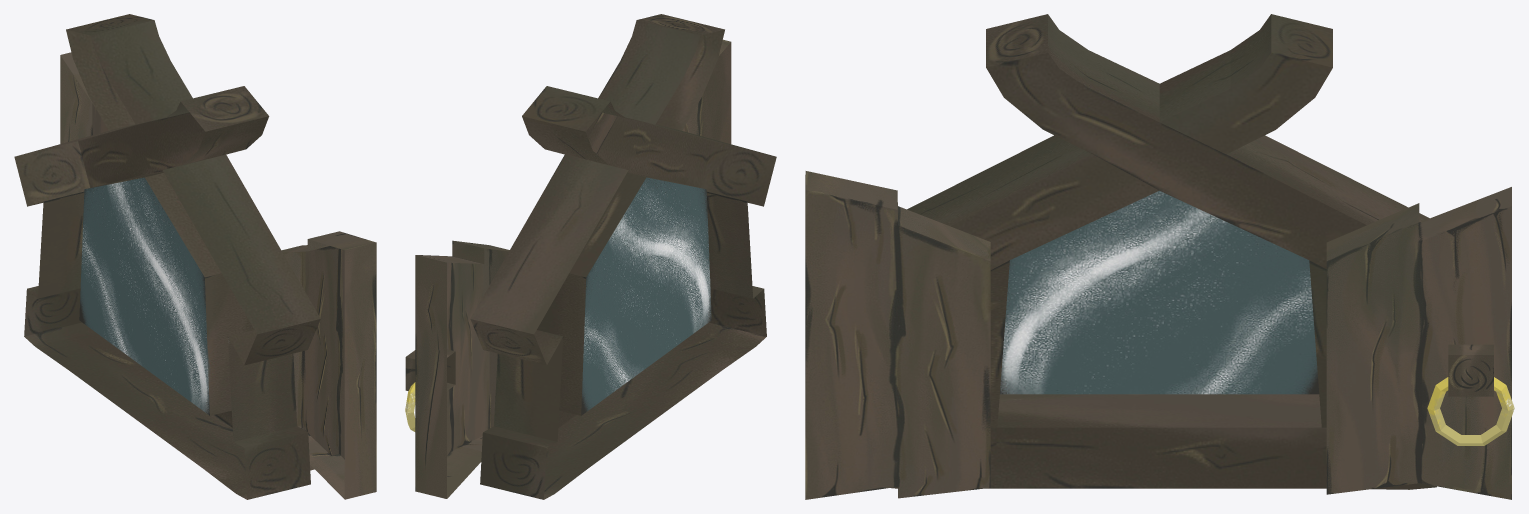
Rendered from polysurface580_txt_fenetre_new_0_lev1_lev2.glb.
3 renders of one model, left to right at view 1: azimuth 30°, elevation 25°; view 2: azimuth 150°, elevation 25°; view 3: azimuth 270°, elevation 25°, orthographic. The views are drawn at different scales.
Parts seen in each view (by area): view 1: polysurface580_txt_fenetre_new_0_lev1_lev2; view 2: polysurface580_txt_fenetre_new_0_lev1_lev2; view 3: polysurface580_txt_fenetre_new_0_lev1_lev2.
Part boxes in pixels (left/top/right/bottom): polysurface580_txt_fenetre_new_0_lev1_lev2: left=14, top=14, right=376, bottom=499; polysurface580_txt_fenetre_new_0_lev1_lev2: left=405, top=14, right=776, bottom=499; polysurface580_txt_fenetre_new_0_lev1_lev2: left=805, top=14, right=1514, bottom=499.
Bounding box in the file's own units: 0.5982 × 1.74 × 2.56.
Materials: 1 (1 with a texture image).
